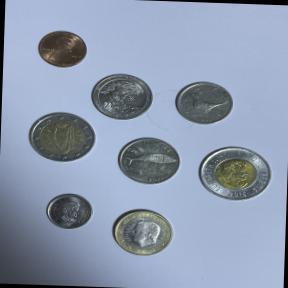coin: (189, 136, 284, 212), (104, 202, 184, 263), (22, 108, 99, 164), (112, 133, 185, 189), (87, 66, 157, 123), (30, 24, 96, 74), (40, 188, 100, 234)
